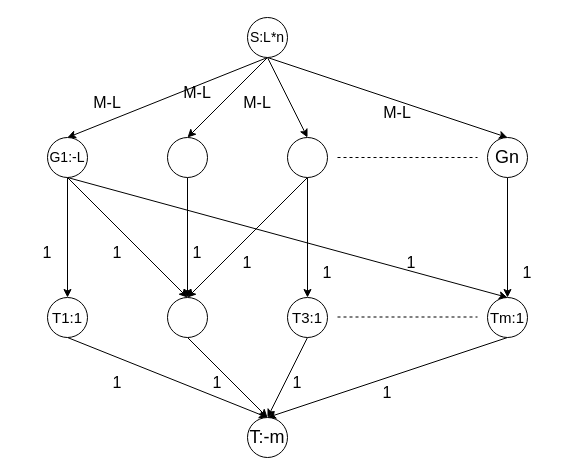
Image size: 574x475. Some labels were removed from this diagram. The shapes that lost their labels are listed below. From the top down, each one's box as (x1, y1, x2, y2) in pixels, then its label:
(166, 136, 208, 178): G2:-L
(286, 136, 328, 178): G3:-L
(166, 296, 208, 338): T2:1
